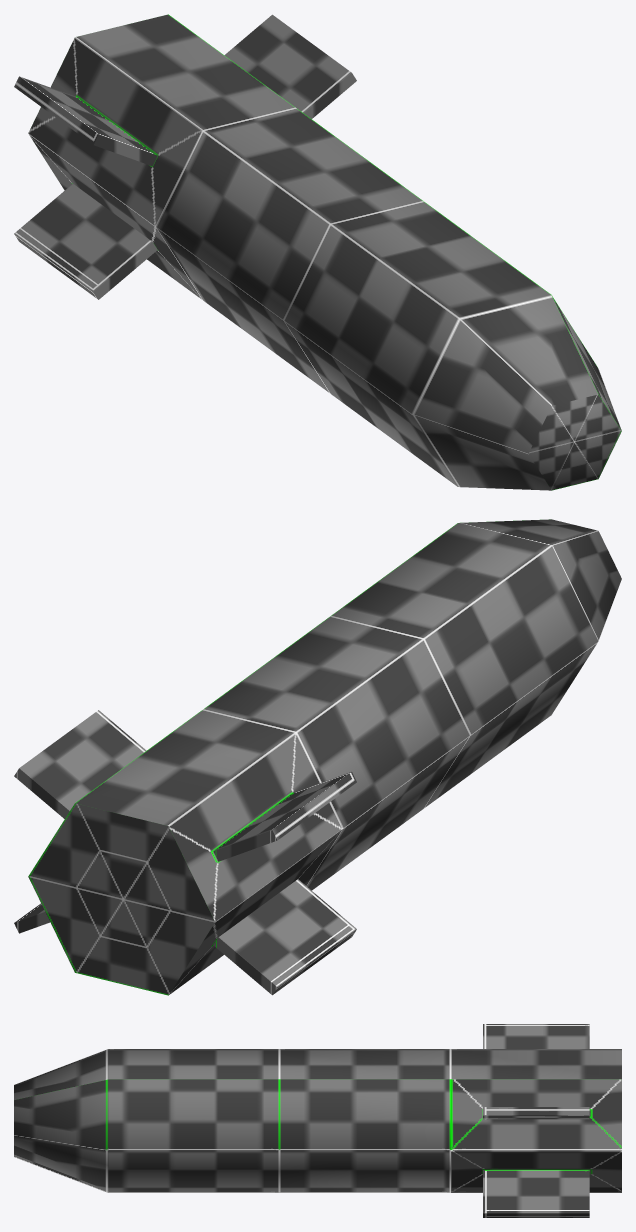
File: Rocket.fbx
3 renders of one model, top to bottom at view 1: azimuth 30°, elevation 25°; view 2: azimuth 150°, elevation 25°; view 3: azimuth 270°, elevation 25°, orthographic. The views are drawn at different scales.
Visible parts, largest first — view 1: Cylinder003; view 2: Cylinder003; view 3: Cylinder003.
Boxes of the visible parts, x1,y1,x2,y2 form: Cylinder003: (14, 14, 621, 490); Cylinder003: (14, 519, 621, 995); Cylinder003: (14, 1024, 621, 1217).
Bounding box in the file's own units: 0.8353 × 0.5135 × 2.49.
Materials: 1 (1 with a texture image).
